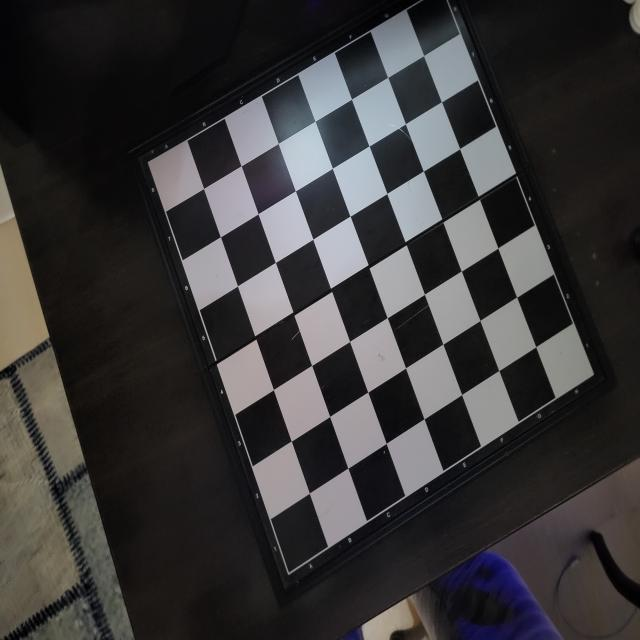chess-board: (143, 0, 600, 581)
